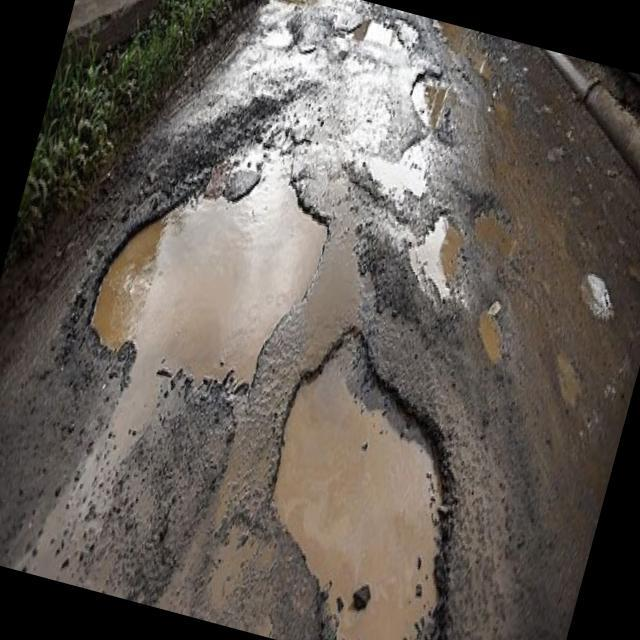Pothole: (56, 88, 358, 444), (219, 302, 524, 640), (382, 196, 480, 326), (342, 120, 450, 218), (390, 60, 478, 159), (414, 18, 514, 102), (264, 7, 350, 94), (339, 0, 428, 74), (526, 346, 596, 436), (456, 189, 532, 271), (567, 268, 631, 340), (468, 295, 515, 363)
